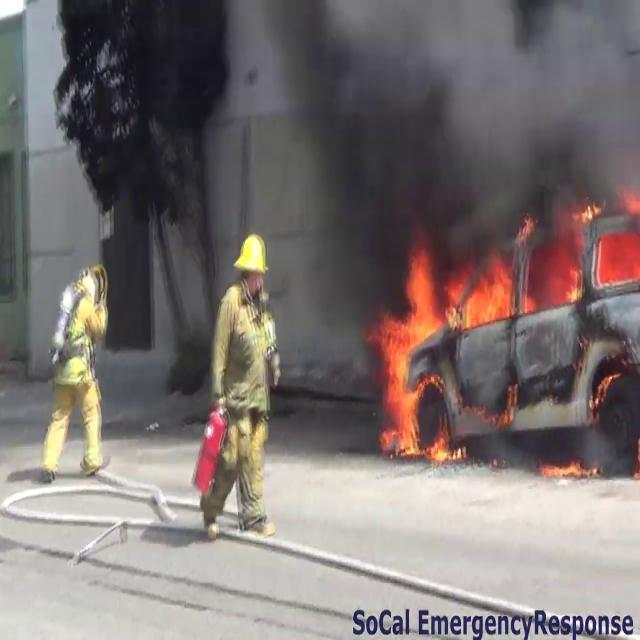Fire: (370, 244, 523, 463)
Smoke: (236, 0, 640, 276)
